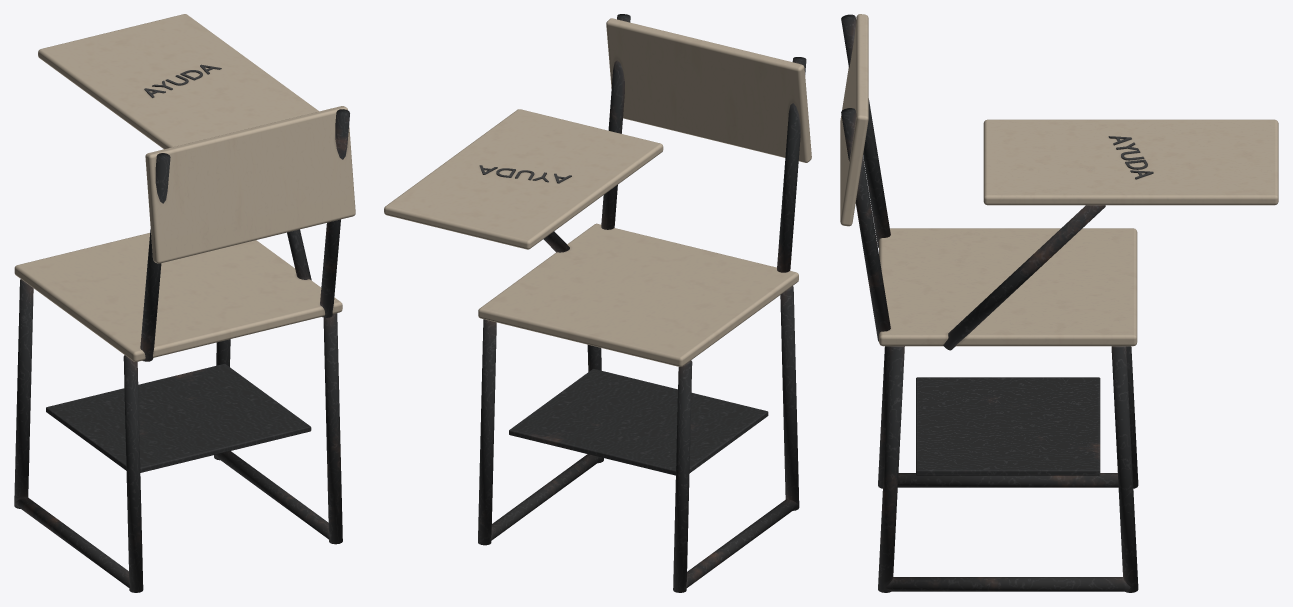
File: pupitre.glb
The picture shows the model from 3 angles, left to right: view 1: azimuth 30°, elevation 25°; view 2: azimuth 150°, elevation 25°; view 3: azimuth 270°, elevation 25°; orthographic projection. The views are drawn at different scales.
Visible parts, largest first — view 1: pupitre; view 2: pupitre; view 3: pupitre.
Boxes of the visible parts, bbox=[...] form: pupitre: bbox=[14, 14, 355, 592]; pupitre: bbox=[384, 14, 811, 592]; pupitre: bbox=[840, 14, 1278, 592].
Bounding box in the file's own units: 0.482 × 0.8537 × 0.713.
Materials: 1 (1 with a texture image).
